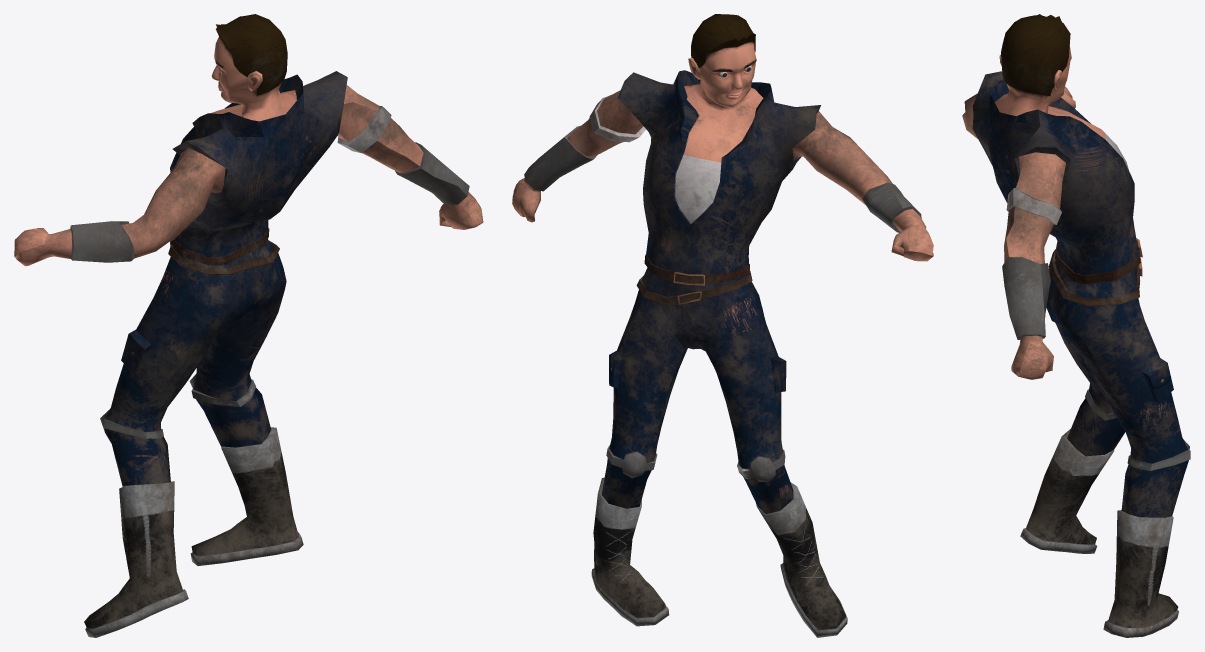
Rendered from Anim_ataque_f3_jugador.0036.obj.
3 renders of one model, left to right at view 1: azimuth 30°, elevation 25°; view 2: azimuth 150°, elevation 25°; view 3: azimuth 270°, elevation 25°, orthographic. The views are drawn at different scales.
Visible parts, largest first — view 1: polySurface1; view 2: polySurface1; view 3: polySurface1.
Boxes of the visible parts, box(x1,y1,x2,y2) form: polySurface1: box(14, 14, 483, 637); polySurface1: box(512, 14, 933, 637); polySurface1: box(962, 14, 1190, 637).
Bounding box in the file's own units: 7.45 × 9.44 × 3.28.
